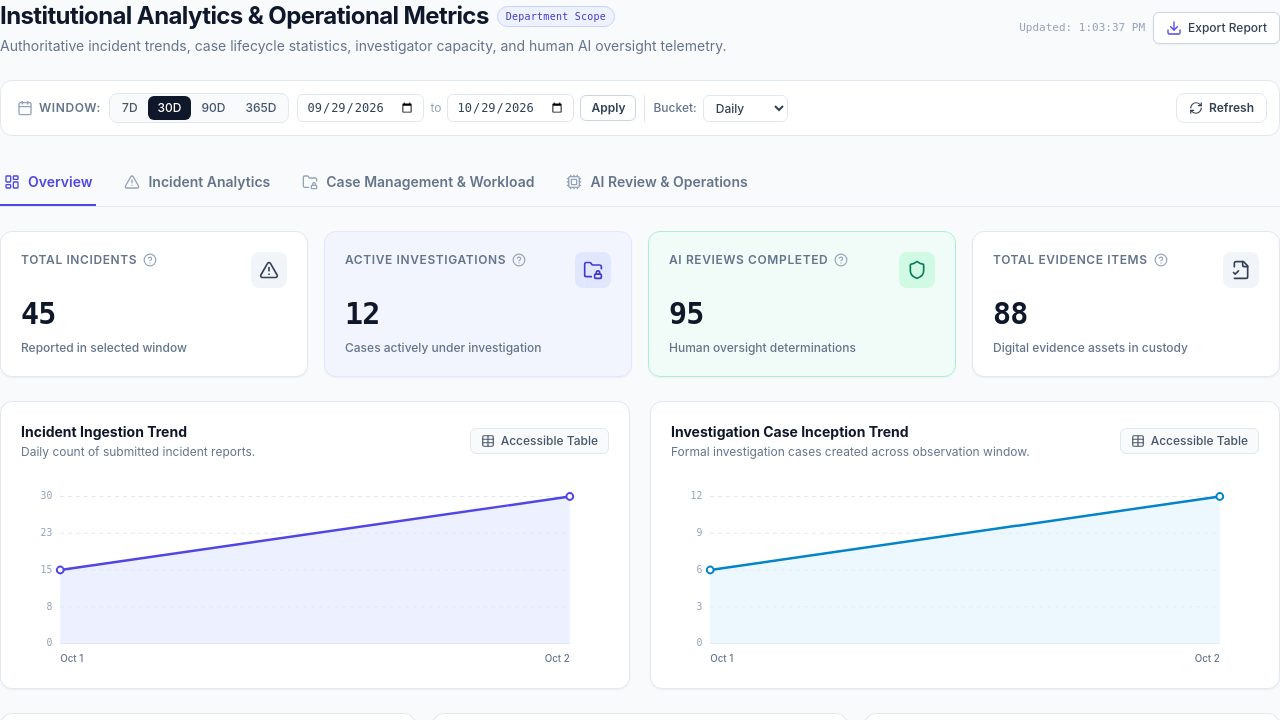
Test: AnalyticsDashboardView Component › navigates to Incident Analytics tab and displays category distributions
expect the text "45" is shown: met, box [21, 296, 56, 332]
Click Incident Analytics tab
Click the button "Incident Analytics". click: (197, 183)
box: [120, 160, 274, 206]
(page scrolled)
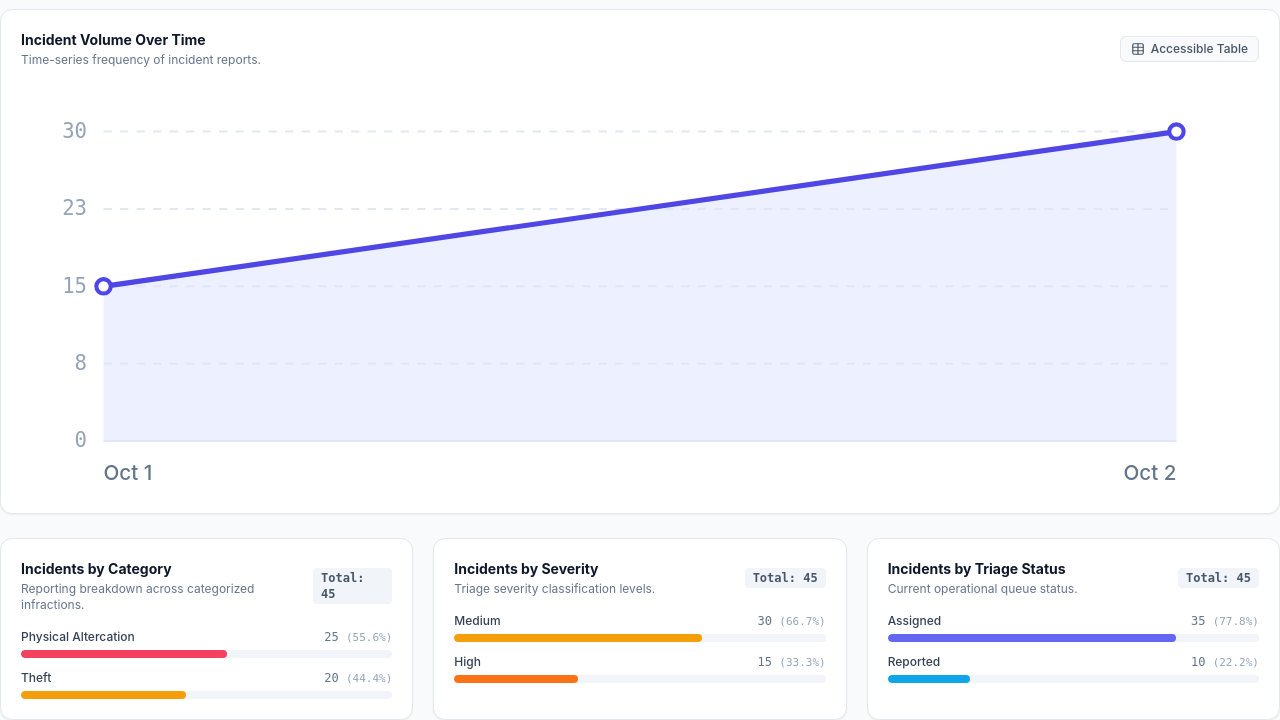
expect the text "Physical Altercation" is shown: met, box [21, 629, 135, 645]
